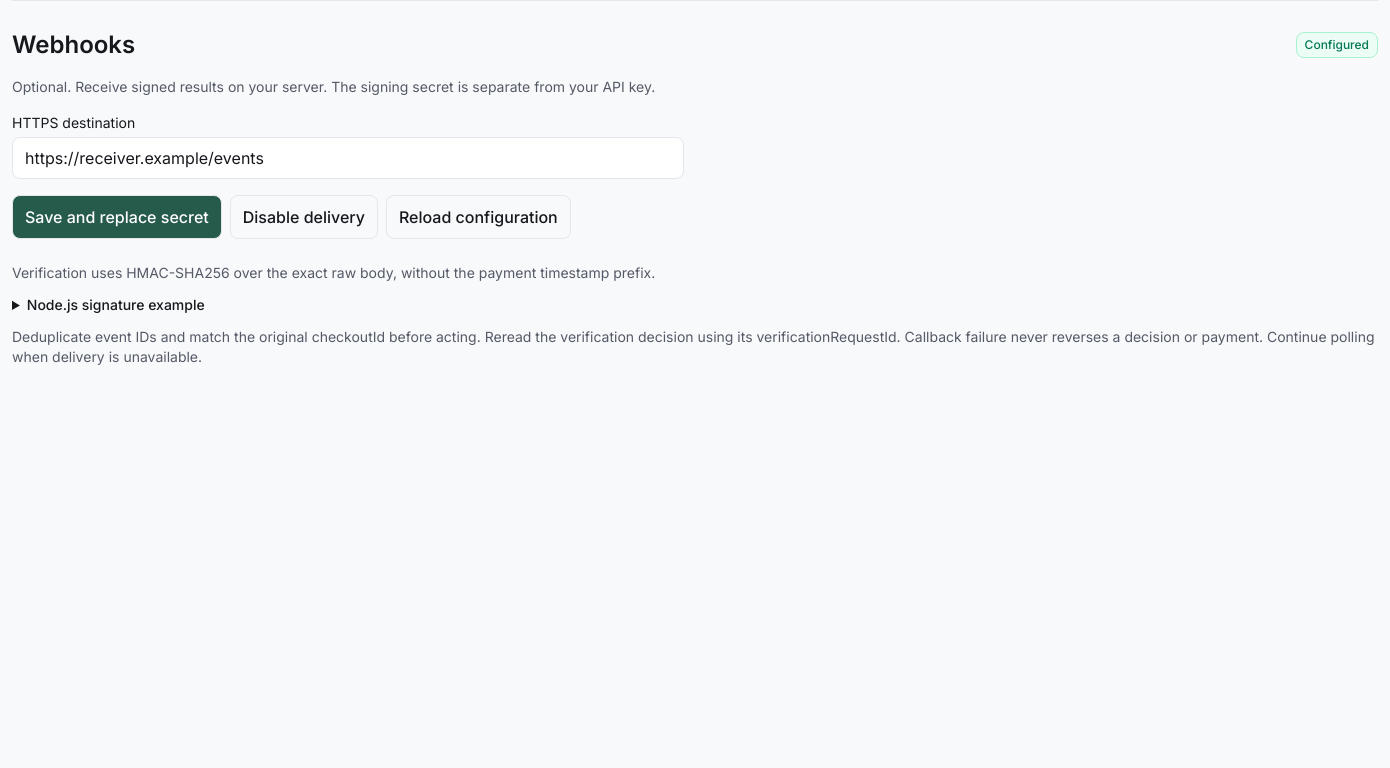
webhook settings controller › rotates and disables with confirmation without fetching history
The width and height of the screenshot is (1390, 768).
Expected: the field labelled "HTTPS destination" is enabled, [12, 137, 684, 179]
Click the button "Save and replace secret" at (117, 217), box [12, 195, 222, 239]
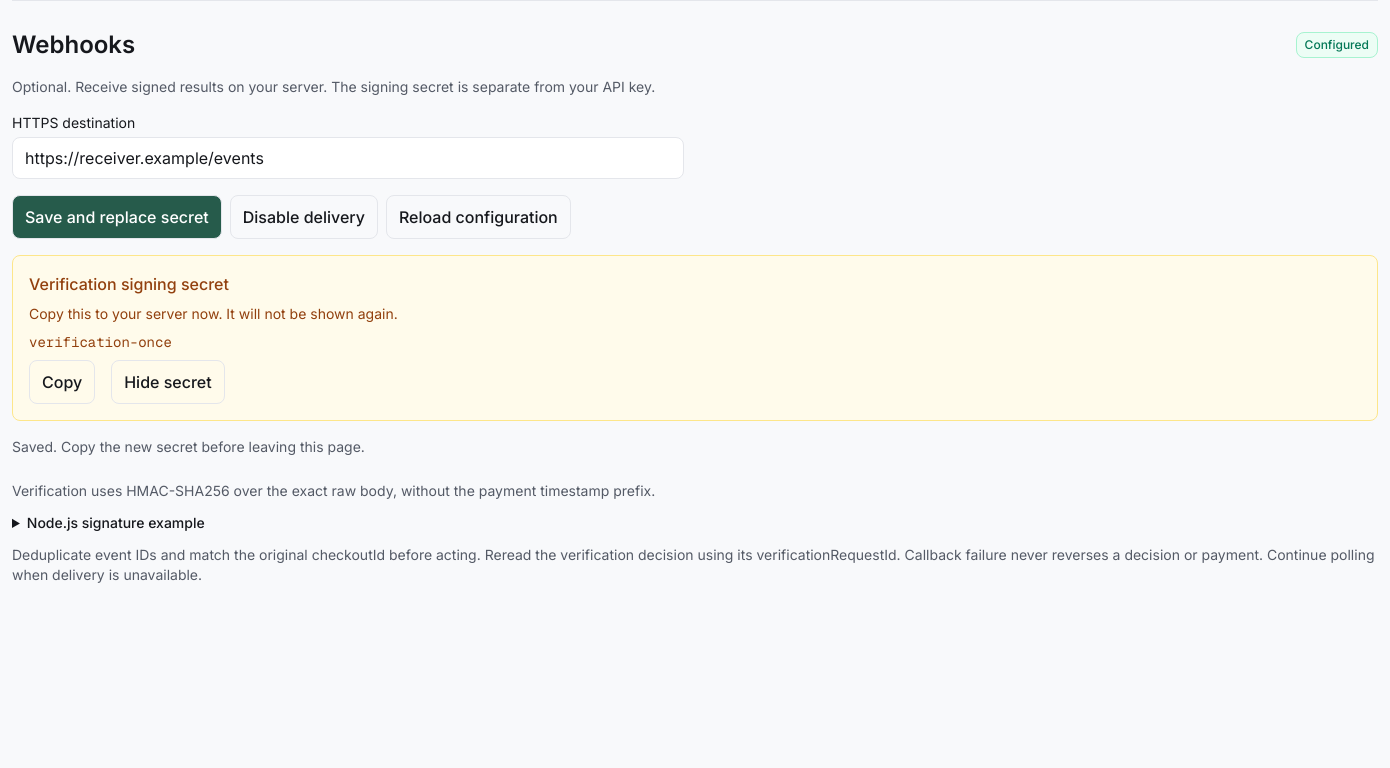
Now the text "verification-once" is shown, box [29, 333, 172, 351]
Click the button "Disable delivery" at (304, 217), box [230, 195, 378, 239]
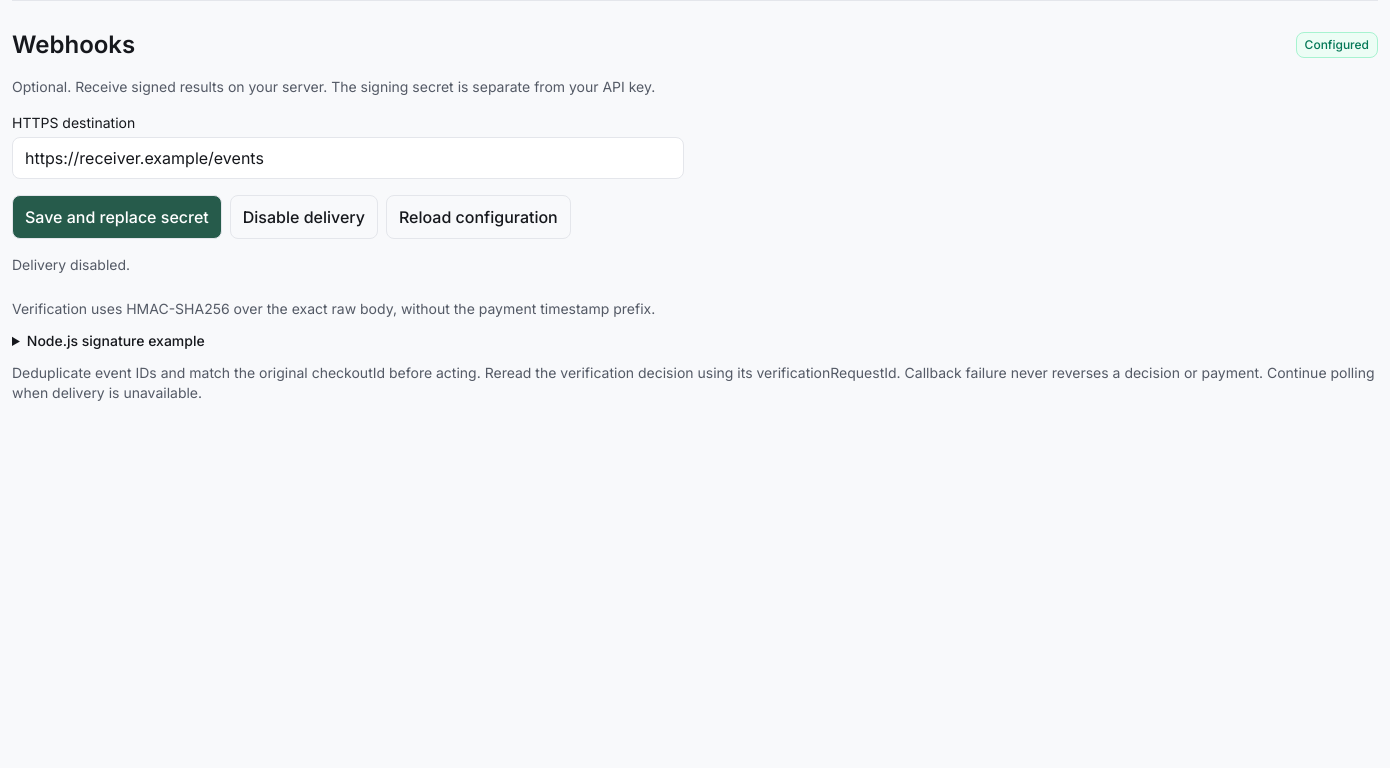
Now the text "Delivery disabled." is shown, box [12, 256, 130, 273]
Now the text "verification-once" is gone
